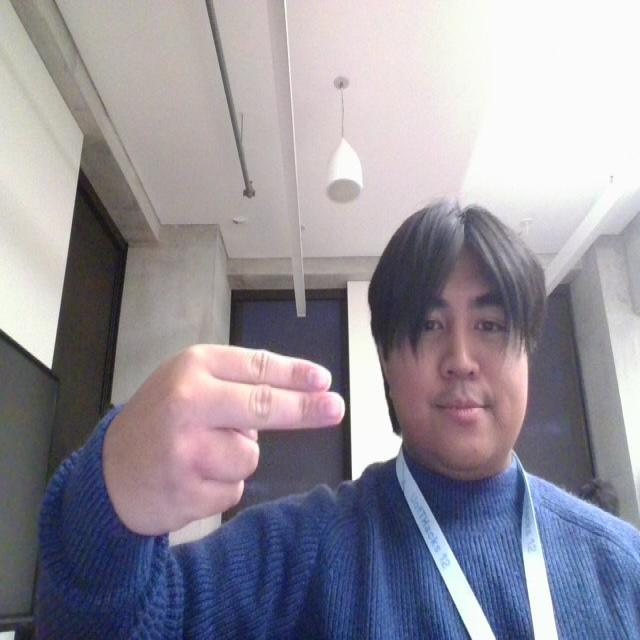Hsign: (102, 337, 348, 557)
